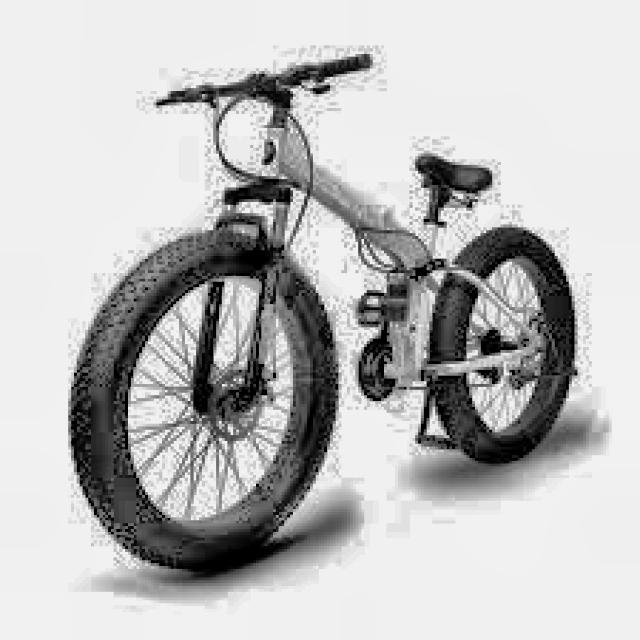bicycle: (57, 47, 585, 573)
